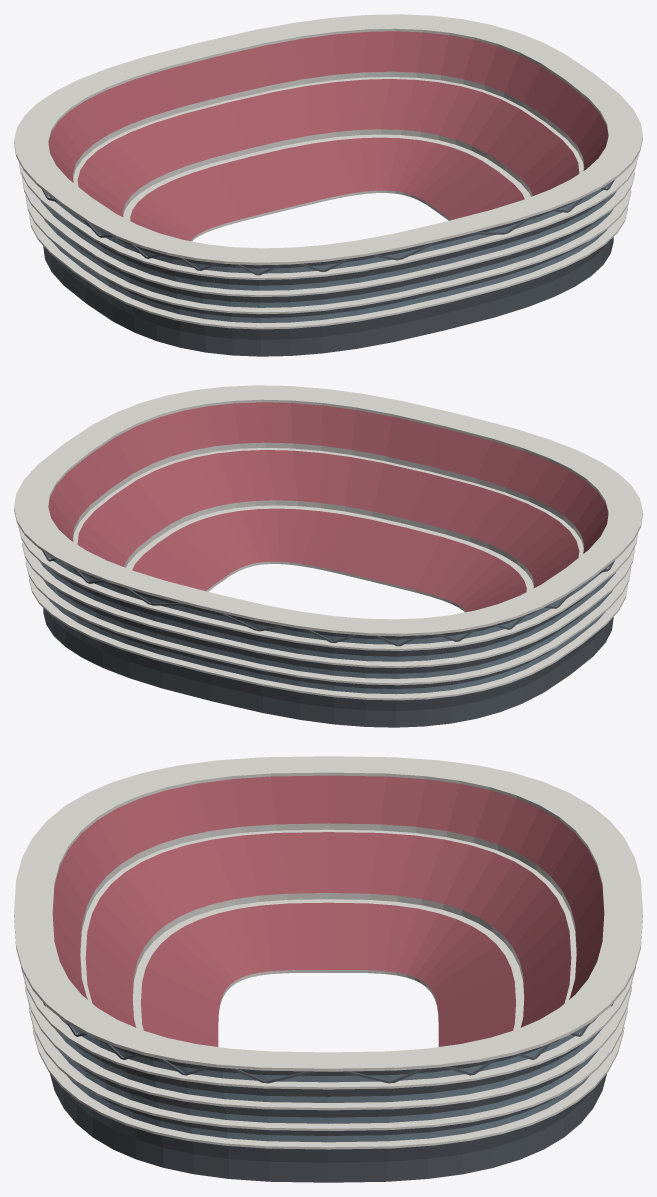
File: barcelona-camp-nou.glb
3 renders of one model, top to bottom at view 1: azimuth 30°, elevation 25°; view 2: azimuth 150°, elevation 25°; view 3: azimuth 270°, elevation 25°, orthographic. The views are drawn at different scales.
Parts seen in each view (by area): view 1: Spotify Camp Nou; view 2: Spotify Camp Nou; view 3: Spotify Camp Nou.
Boxes of the visible parts, bbox=[...] form: Spotify Camp Nou: bbox=[14, 14, 642, 356]; Spotify Camp Nou: bbox=[14, 385, 642, 727]; Spotify Camp Nou: bbox=[14, 756, 642, 1182].
Size of the model in its own units: 268 by 51.2 by 228.
